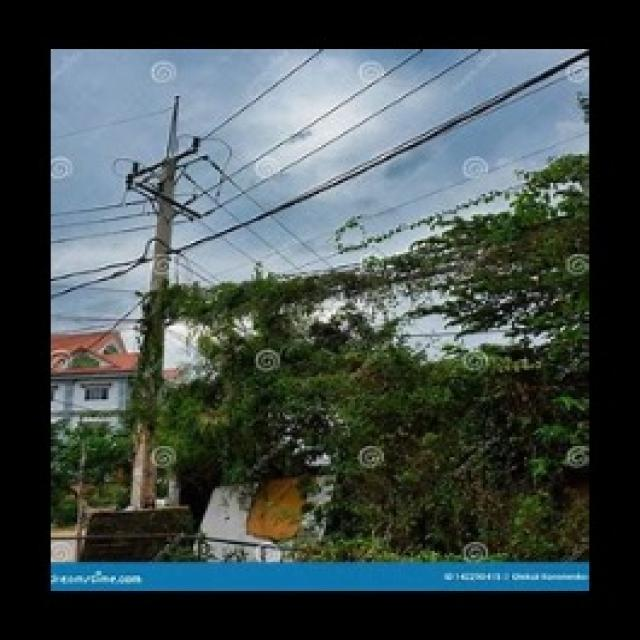critical vegetation: (146, 260, 590, 388)
